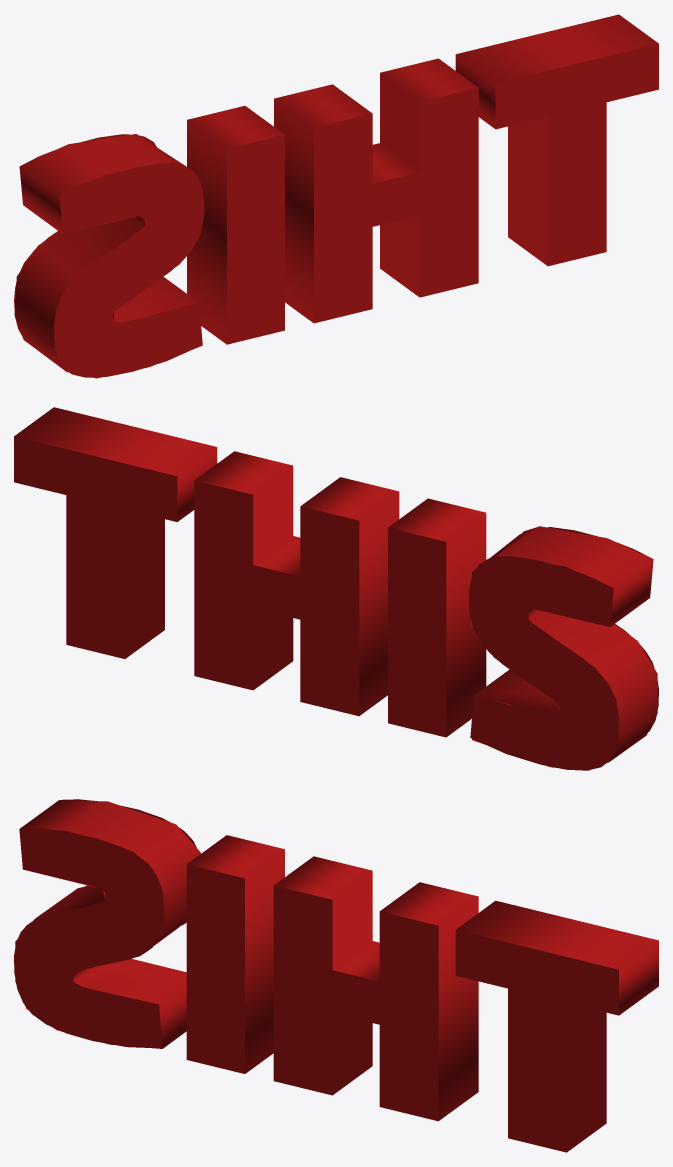
Rendered from this.fbx.
The picture shows the model from 3 angles, top to bottom: view 1: azimuth 30°, elevation 25°; view 2: azimuth 150°, elevation 25°; view 3: azimuth 330°, elevation 25°; orthographic projection.
Visible parts, largest first — view 1: Text; view 2: Text; view 3: Text.
Part boxes in pixels (box(x1,y1,x2,y2)): Text: box(14, 14, 658, 378); Text: box(14, 407, 658, 770); Text: box(14, 799, 658, 1152).
Size of the model in its own units: 7 by 2.26 by 0.8.
